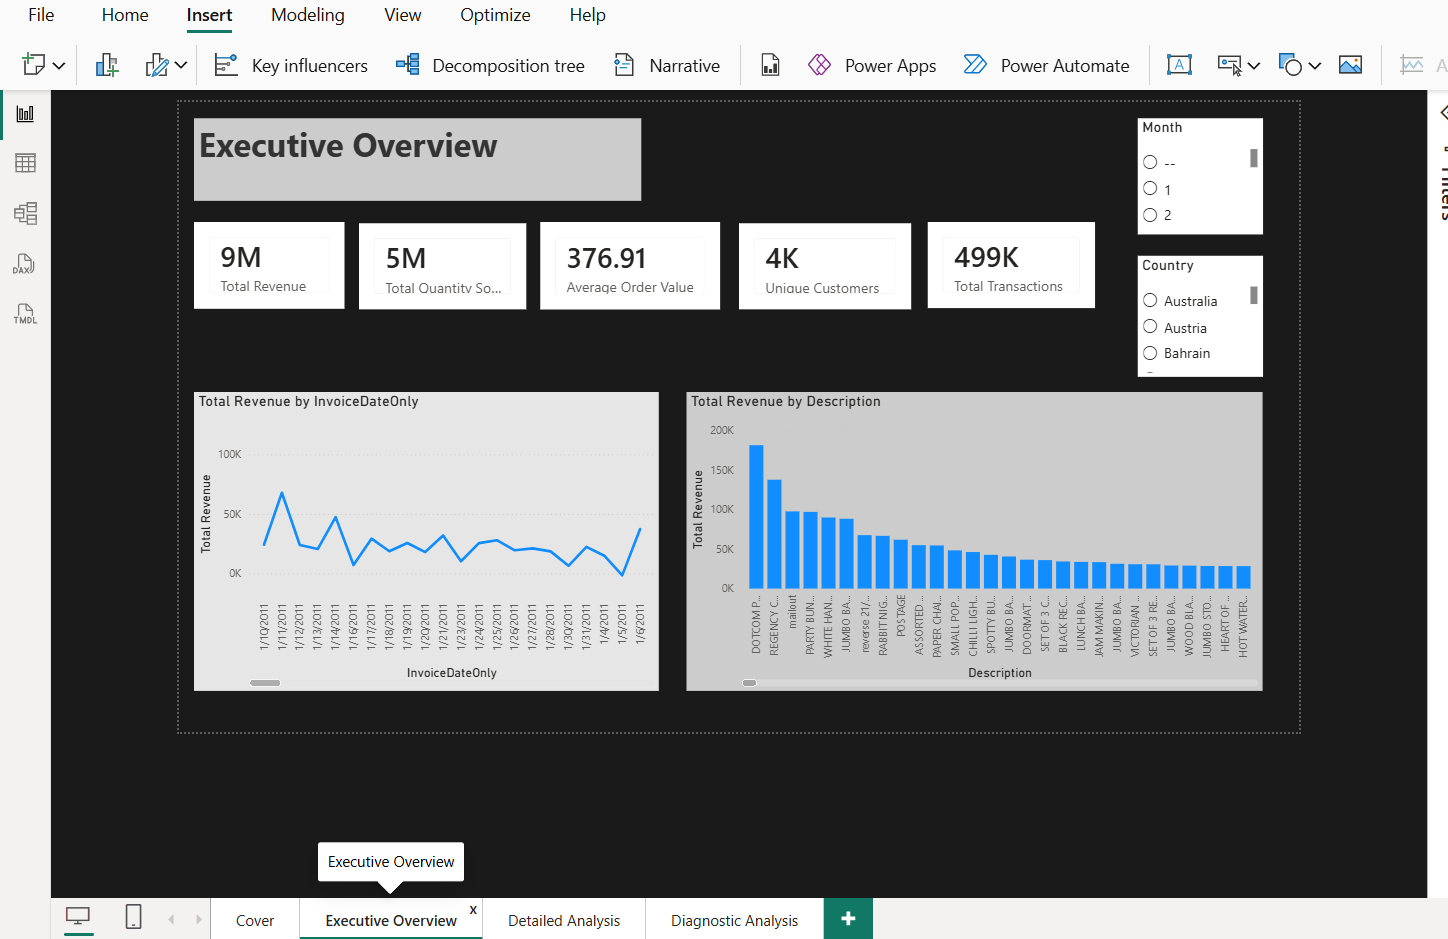

The page's visual inventory and layout, read from the dashboard file:
{"tool":"powerbi","page":{"name":"Executive Overview","canvas":[1280,720],"ordinal":0},"visuals":[{"type":"cardVisual","fields":{"Data":["FactSales.Total Revenue"]},"box":[0,162.9,172.2,98.9],"z":0},{"type":"cardVisual","fields":{"Data":["FactSales.Average Order Value"]},"box":[414.3,162.9,205.7,100],"z":1},{"type":"cardVisual","fields":{"Data":["FactSales.Total Quantity Sold"]},"box":[201.4,164.3,191.4,98.6],"z":2},{"type":"cardVisual","fields":{"Data":["FactSales.Unique Customers"]},"box":[640,162.9,197.1,98.6],"z":3},{"type":"cardVisual","fields":{"Data":["FactSales.Total Transactions"]},"box":[857.1,164.3,191.4,98.6],"z":4},{"type":"textbox","box":[41.4,85.7,487.1,65.7],"z":5},{"type":"lineChart","fields":{"Category":["FactSales.InvoiceDateOnly"],"Y":["FactSales.Total Revenue"]},"box":[0,315.7,528.6,357.1],"z":7},{"type":"clusteredColumnChart","fields":{"Category":["DimProduct.Description"],"Y":["FactSales.Total Revenue"]},"box":[554.3,345.7,684.3,327.1],"z":8},{"type":"listSlicer","fields":{"Values":["DimLocation.Country"]},"box":[1095.7,175.7,142.9,155.7],"z":9},{"type":"listSlicer","fields":{"Values":["DimDate.Month"]},"box":[1095.7,18.6,142.9,132.9],"z":10}]}

Visuals, with their boxes on the page's 1280x720 design canvas (x1, y1, x2, y2). These are canvas units, not pixel positions in the 1448x939 screenshot, which may show the page scaled, cropped or inside an application window:
cardVisual - FactSales.Total Revenue: (left=0, top=163, right=172, bottom=262)
cardVisual - FactSales.Average Order Value: (left=414, top=163, right=620, bottom=263)
cardVisual - FactSales.Total Quantity Sold: (left=201, top=164, right=393, bottom=263)
cardVisual - FactSales.Unique Customers: (left=640, top=163, right=837, bottom=262)
cardVisual - FactSales.Total Transactions: (left=857, top=164, right=1048, bottom=263)
textbox: (left=41, top=86, right=528, bottom=151)
lineChart - FactSales.InvoiceDateOnly x FactSales.Total Revenue: (left=0, top=316, right=529, bottom=673)
clusteredColumnChart - DimProduct.Description x FactSales.Total Revenue: (left=554, top=346, right=1239, bottom=673)
listSlicer - DimLocation.Country: (left=1096, top=176, right=1239, bottom=331)
listSlicer - DimDate.Month: (left=1096, top=19, right=1239, bottom=152)
